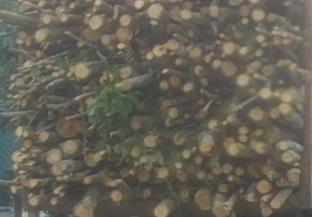large: (57, 117, 76, 138)
medium: (213, 195, 234, 216), (153, 40, 178, 56), (196, 189, 212, 210), (52, 159, 73, 175), (73, 205, 93, 216), (75, 63, 89, 78), (148, 3, 162, 18), (47, 149, 61, 164), (201, 136, 214, 151), (223, 62, 236, 76), (118, 29, 133, 41), (65, 141, 78, 154), (224, 138, 234, 153), (90, 16, 101, 29), (252, 10, 265, 21), (86, 153, 96, 167), (250, 108, 262, 119), (144, 136, 156, 147), (155, 206, 168, 216), (121, 67, 132, 78), (263, 65, 274, 76), (35, 30, 45, 42), (174, 133, 184, 145), (282, 152, 294, 162), (225, 42, 234, 55), (158, 168, 169, 178), (111, 191, 122, 201), (256, 142, 266, 153), (131, 117, 139, 130), (13, 152, 23, 162), (192, 47, 202, 57), (209, 7, 219, 17), (281, 92, 291, 102), (121, 15, 130, 26), (183, 83, 193, 92), (177, 171, 186, 181), (170, 109, 177, 118)
small: (278, 103, 290, 115), (258, 180, 269, 193), (288, 172, 300, 182), (121, 80, 131, 91), (238, 75, 248, 85), (229, 144, 238, 155), (261, 89, 271, 98), (223, 164, 233, 173), (140, 171, 149, 181), (170, 76, 179, 85), (208, 119, 217, 128), (182, 10, 191, 19), (135, 0, 144, 9), (15, 127, 23, 137), (236, 166, 244, 175), (271, 201, 280, 209), (160, 80, 168, 89), (271, 109, 279, 118), (131, 147, 139, 156), (213, 60, 222, 68), (219, 185, 227, 193), (30, 198, 38, 206), (239, 127, 248, 134), (50, 197, 57, 206), (144, 188, 151, 197), (277, 177, 284, 186), (240, 46, 247, 54), (30, 180, 37, 188), (41, 132, 48, 139), (280, 142, 287, 149), (84, 177, 91, 184), (110, 181, 117, 188), (256, 49, 263, 56), (258, 35, 265, 42), (184, 150, 190, 158), (94, 154, 100, 162), (239, 136, 247, 142), (44, 15, 50, 23), (176, 162, 182, 169), (195, 157, 202, 163), (227, 175, 233, 182), (242, 18, 249, 24), (147, 52, 153, 59), (201, 79, 208, 85), (103, 36, 109, 43), (256, 129, 263, 135), (199, 172, 205, 178), (61, 15, 67, 21), (17, 38, 23, 44), (290, 63, 296, 69), (198, 99, 204, 105), (235, 32, 241, 38), (273, 91, 280, 96), (268, 14, 273, 21), (205, 55, 210, 62), (19, 32, 26, 37), (95, 0, 101, 5), (130, 169, 135, 174), (176, 59, 181, 64), (262, 196, 267, 201), (162, 69, 168, 73), (118, 44, 124, 48), (53, 72, 58, 76), (12, 187, 15, 193), (217, 40, 221, 44), (70, 4, 74, 8), (39, 2, 43, 6), (11, 75, 14, 80), (220, 33, 223, 38), (240, 190, 243, 194), (223, 121, 227, 124), (284, 40, 287, 44), (68, 73, 70, 77)
